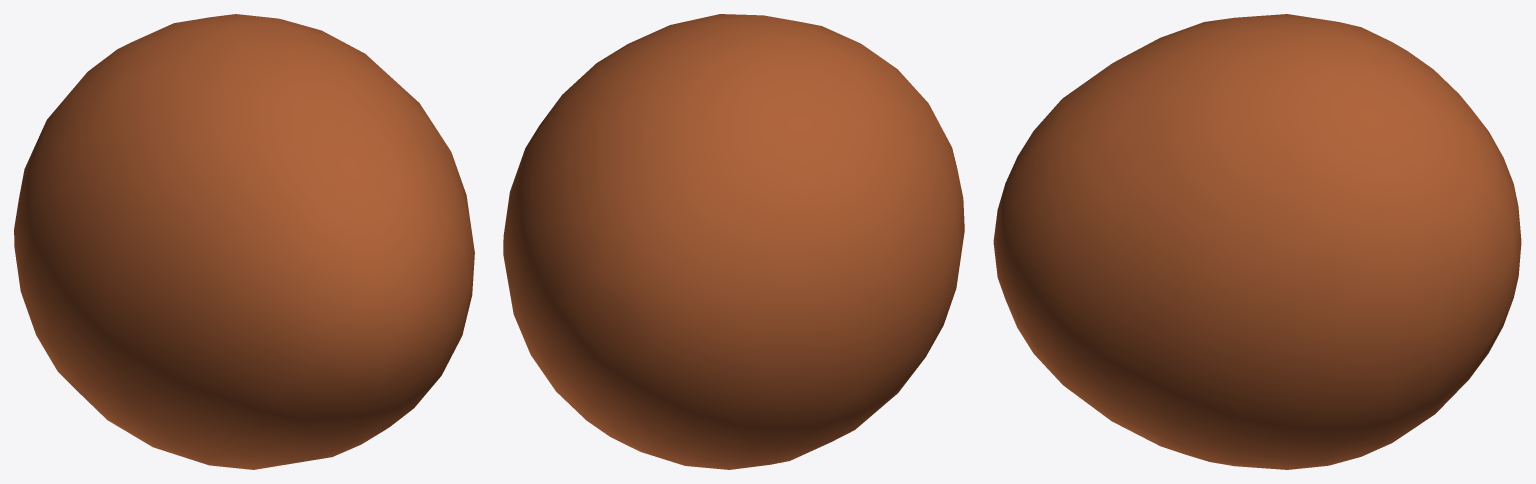
The model's file is MeshEgg_9_0.obj.
3 renders of one model, left to right at view 1: azimuth 30°, elevation 25°; view 2: azimuth 150°, elevation 25°; view 3: azimuth 270°, elevation 25°, orthographic.
Parts seen in each view (by area): view 1: Egg_9; view 2: Egg_9; view 3: Egg_9.
Boxes of the visible parts, x1,y1,x2,y2 form: Egg_9: (14, 14, 474, 469); Egg_9: (503, 14, 964, 469); Egg_9: (993, 14, 1521, 469).
Bounding box in the file's own units: 0.0735 × 0.0735 × 0.0853.
